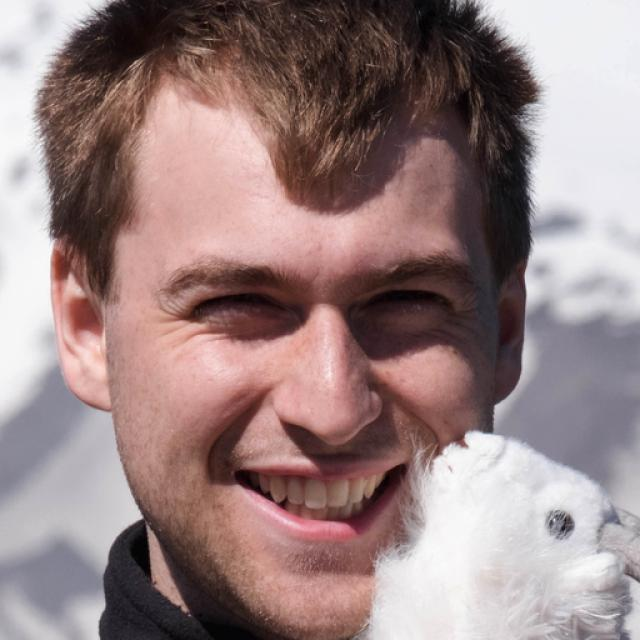happy: (110, 72, 508, 628)
